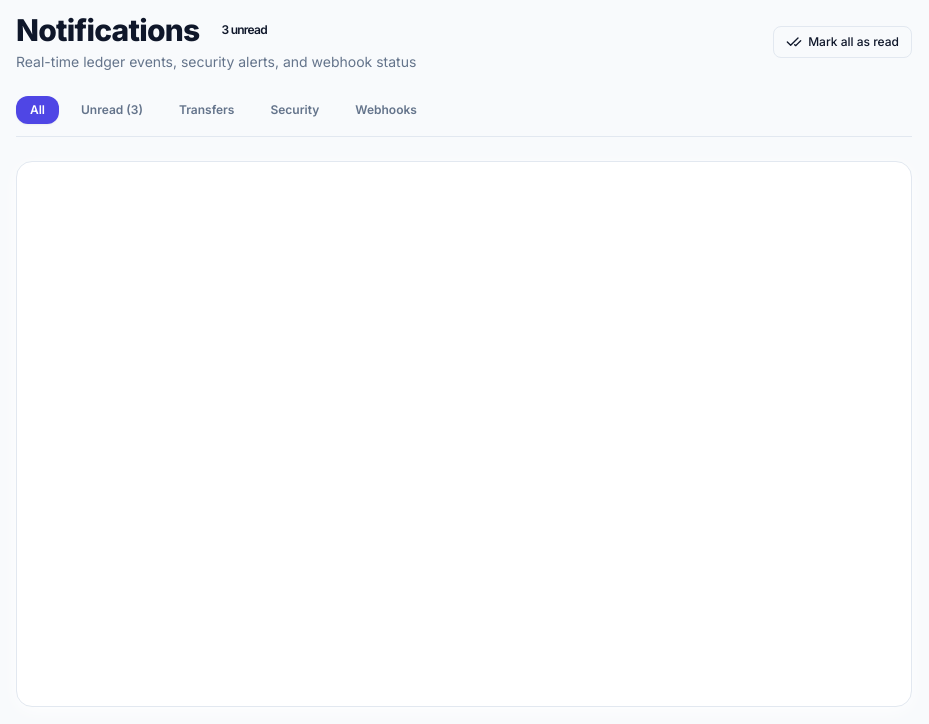
Test: NotificationsPage Component › marks all notifications as read when clicking mark all as read
The width and height of the screenshot is (929, 724).
Click the button "Mark all as read" at point(843, 42), box [773, 26, 912, 58]
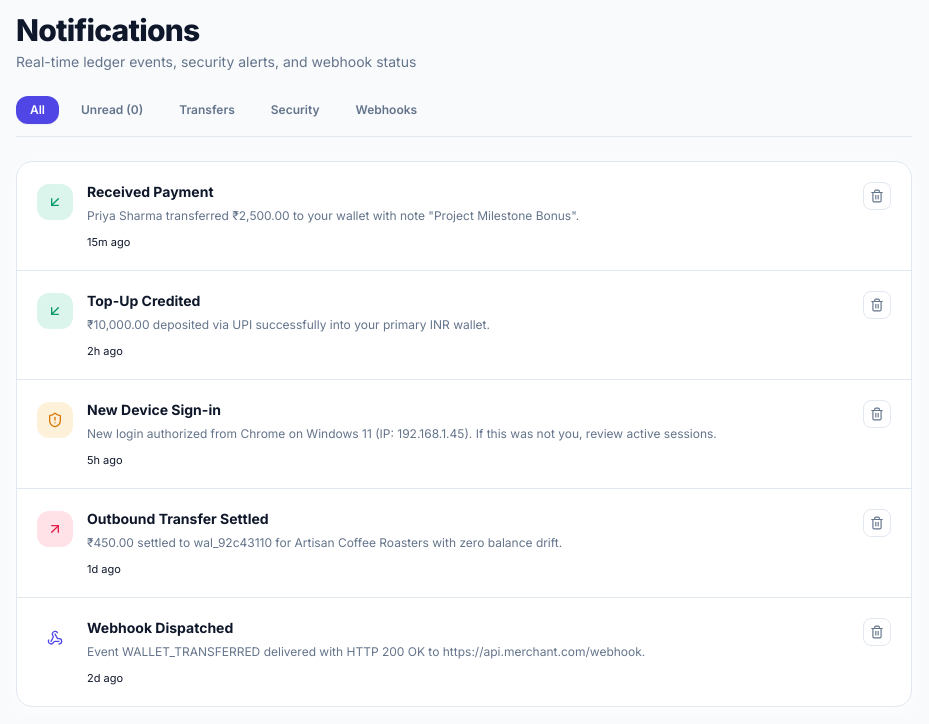
Expected: the text "3 unread" is gone
Expected: the button "Mark all as read" is gone
